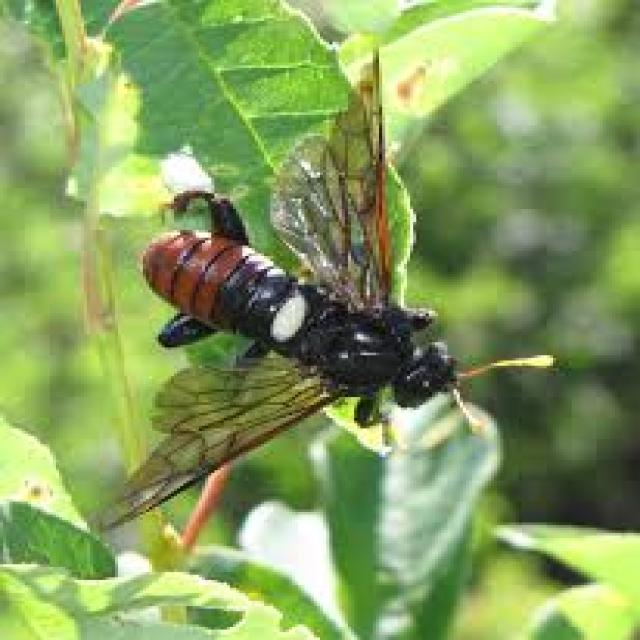Saw Fly: (80, 49, 564, 567)
